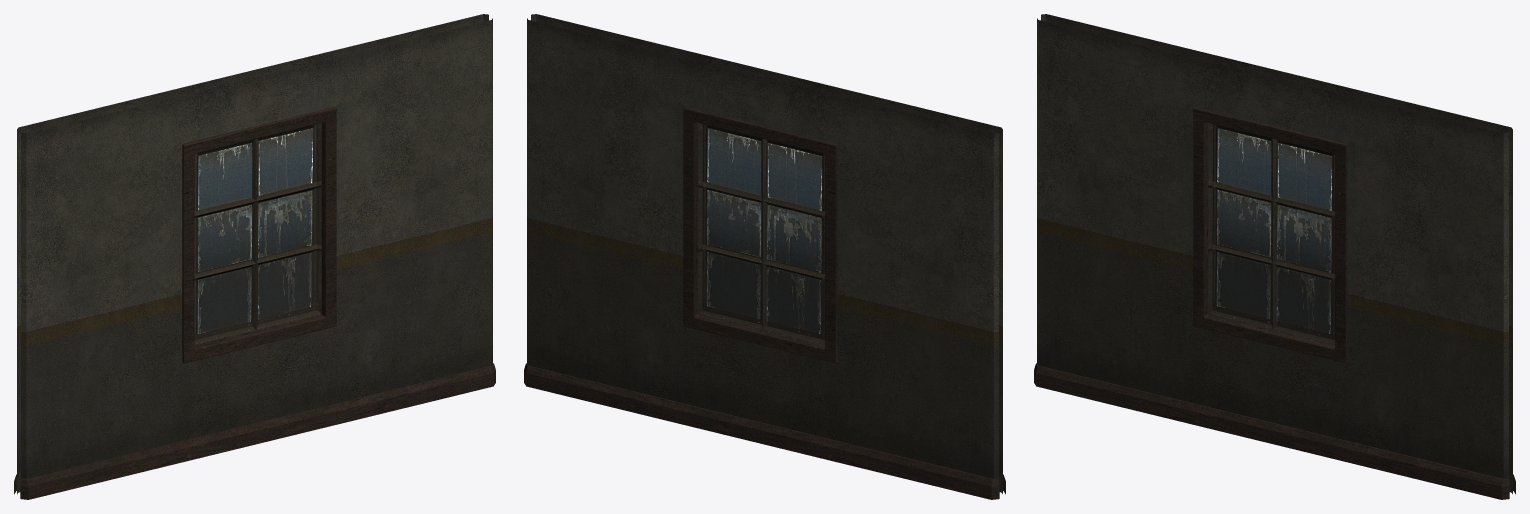
File: window_2_single.glb
The picture shows the model from 3 angles, left to right: view 1: azimuth 30°, elevation 25°; view 2: azimuth 150°, elevation 25°; view 3: azimuth 330°, elevation 25°; orthographic projection.
Visible parts, largest first — view 1: window_2_single; view 2: window_2_single; view 3: window_2_single.
Boxes of the visible parts, box(x1,y1,x2,y2) form: window_2_single: box(14, 14, 495, 499); window_2_single: box(524, 14, 1005, 499); window_2_single: box(1034, 14, 1515, 499).
Size of the model in its own units: 4.09 by 3 by 0.18.
3 materials, 3 textured.
